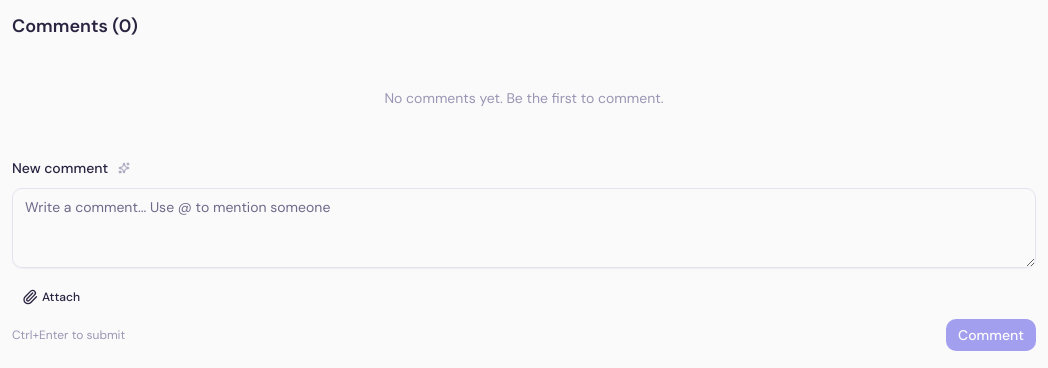
Scenario: CommentSection › enables the Comment button when textarea has text
Type "Hello team" into the text box with placeholder "Write a comment... Use @ to mention someone".
click(524, 228); type("Hello team")  # box left=12, top=188, right=1036, bottom=268
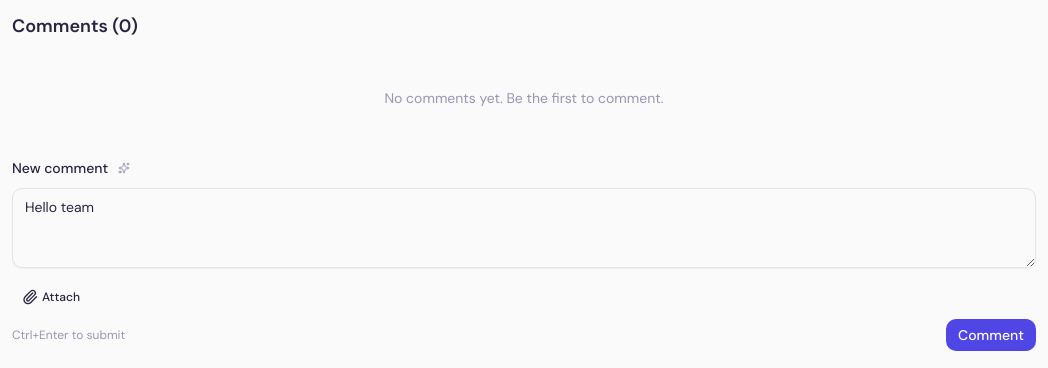
Result: the button "Comment" is enabled at left=946, top=319, right=1036, bottom=351
